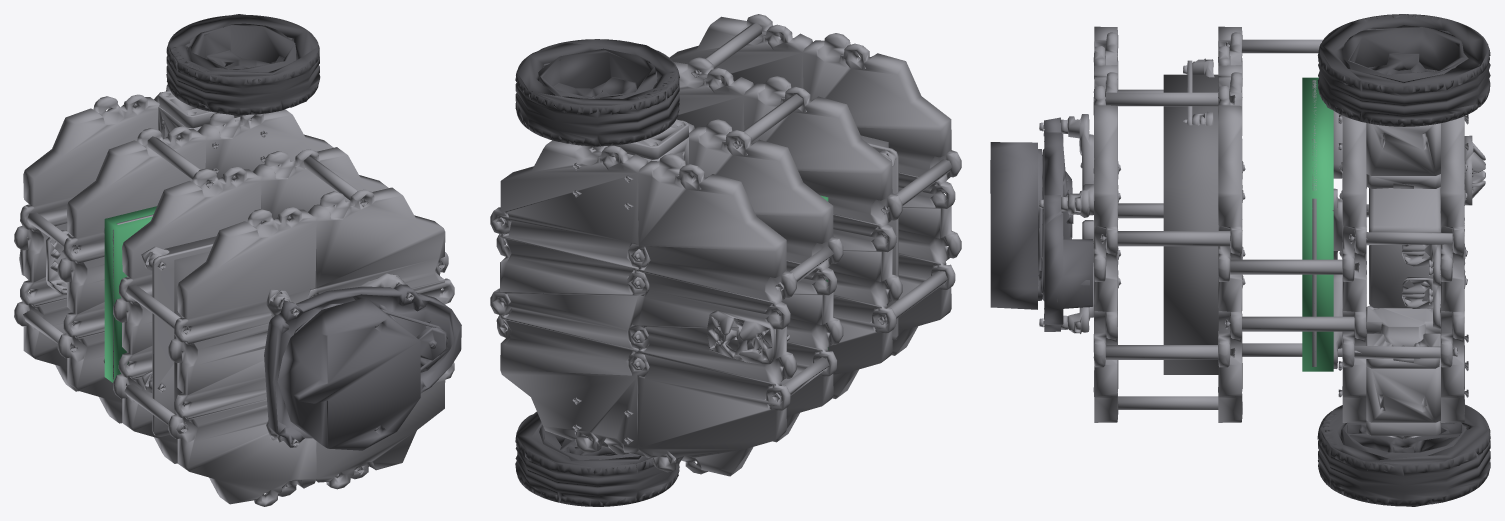
3 views of the same model, side by side, from view 1: azimuth 30°, elevation 25°; view 2: azimuth 150°, elevation 25°; view 3: azimuth 270°, elevation 25° (orthographic). The views are drawn at different scales.
Visible parts, largest first — view 1: base_link, dev.2d-lidar, dev.left-wheel-motor, dev.motor-controller, dev.jetson-nano-computer; view 2: base_link, dev.left-wheel-motor, dev.right-wheel-motor; view 3: base_link, dev.left-wheel-motor, dev.2d-lidar, dev.jetson-nano-computer, dev.right-wheel-motor, dev.motor-controller.
Part boxes in pixels (x1=…): base_link: x1=14, y1=85, x2=454, y2=506; dev.2d-lidar: x1=264, y1=284, x2=461, y2=450; dev.left-wheel-motor: x1=166, y1=14, x2=320, y2=115; dev.motor-controller: x1=104, y1=206, x2=156, y2=382; dev.jetson-nano-computer: x1=164, y1=236, x2=216, y2=414; base_link: x1=490, y1=14, x2=961, y2=476; dev.left-wheel-motor: x1=515, y1=39, x2=679, y2=146; dev.right-wheel-motor: x1=515, y1=411, x2=679, y2=506; base_link: x1=1039, y1=26, x2=1485, y2=439; dev.left-wheel-motor: x1=1317, y1=14, x2=1490, y2=126; dev.2d-lidar: x1=990, y1=117, x2=1093, y2=331; dev.jetson-nano-computer: x1=1163, y1=74, x2=1218, y2=374; dev.right-wheel-motor: x1=1317, y1=404, x2=1490, y2=506; dev.motor-controller: x1=1302, y1=77, x2=1333, y2=371.
Size of the model in its own units: 0.1384 by 0.1783 by 0.1912.
